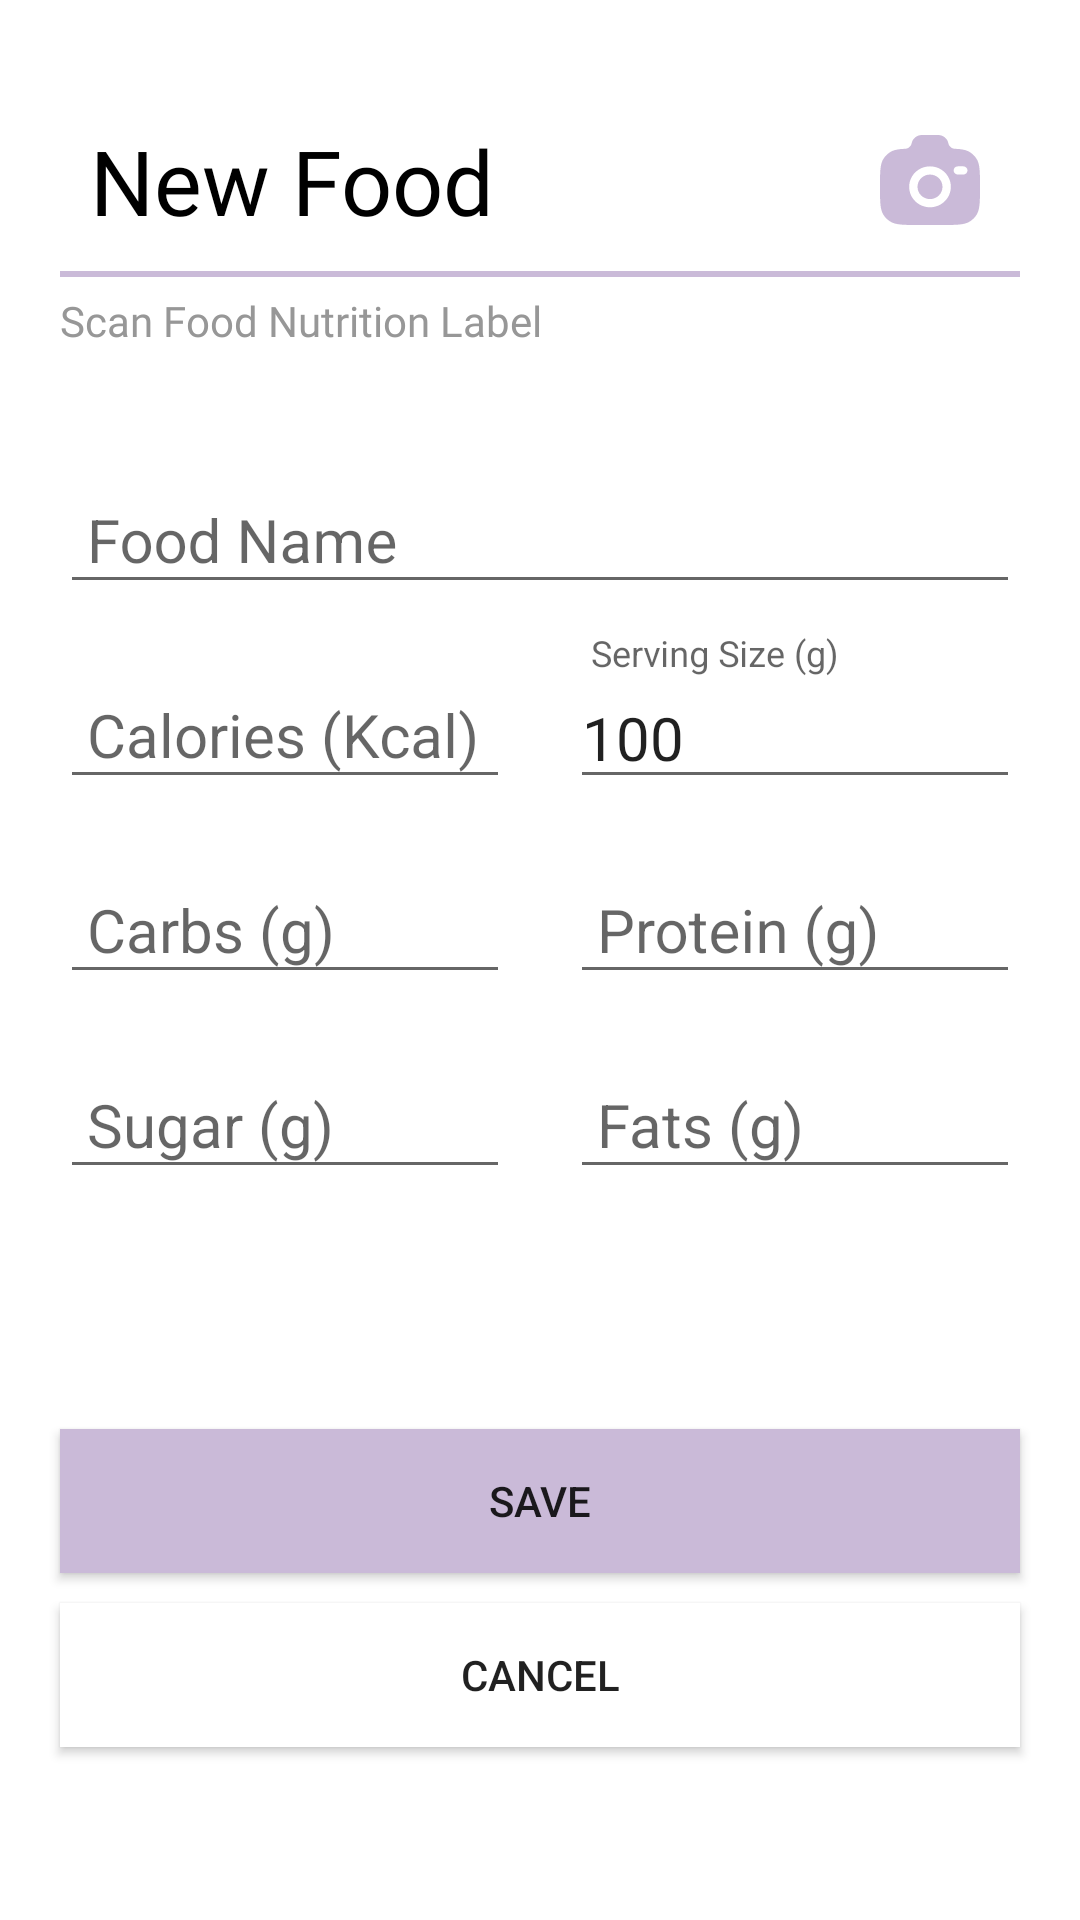

Screen size 1080 x 1920. Icon name, then its center in pixels as point (x, y):
camera: point (930, 180)
